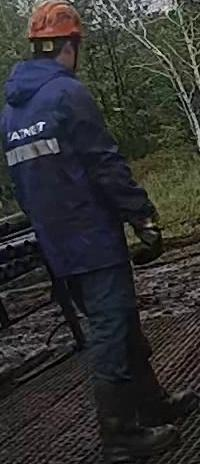gloves: (127, 217, 164, 265)
helmet: (26, 0, 83, 41)
vest: (0, 58, 131, 280)
